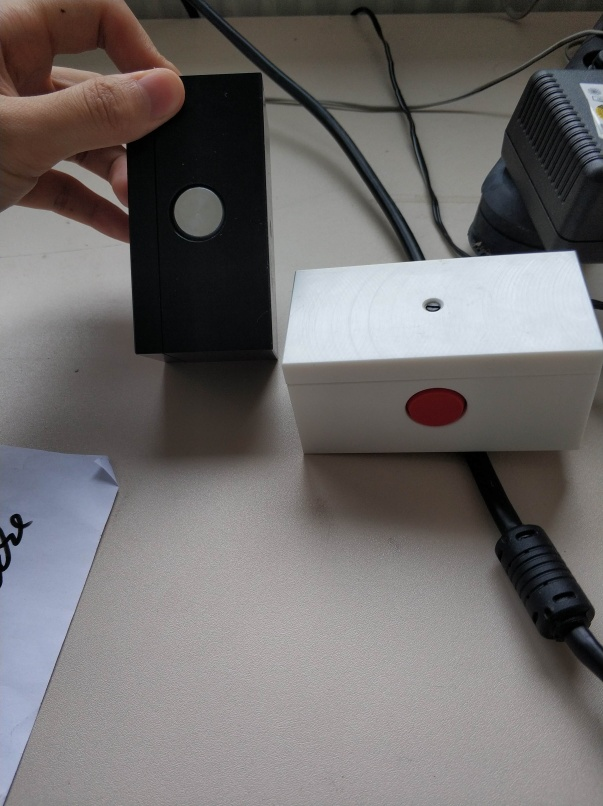black+black+silver: (125, 70, 280, 367)
white+white+red: (280, 246, 602, 461)
